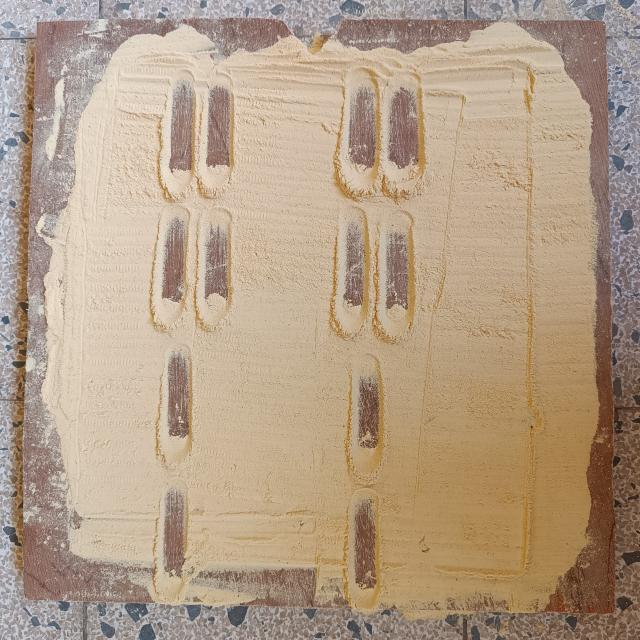double: (328, 200, 419, 346), (336, 64, 430, 202), (156, 64, 242, 206), (148, 205, 238, 336)
single: (338, 488, 392, 614), (344, 349, 392, 486), (156, 344, 200, 479), (150, 479, 196, 607)
